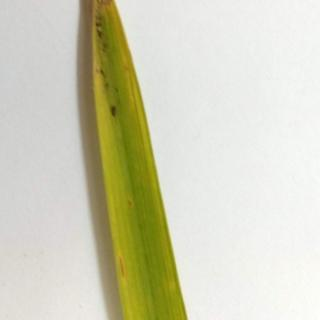bercak-Cokelat: (92, 13, 128, 104), (104, 102, 126, 121)
